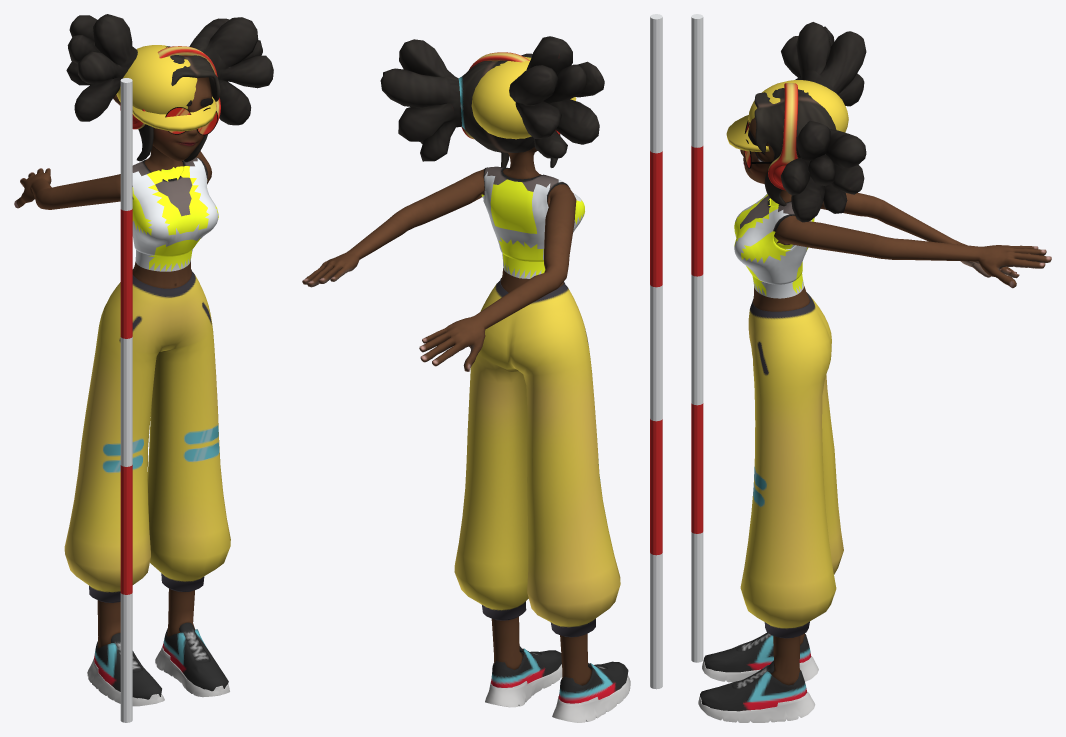
Rendered from trabajador_operario.glb.
The picture shows the model from 3 angles, left to right: view 1: azimuth 30°, elevation 25°; view 2: azimuth 150°, elevation 25°; view 3: azimuth 270°, elevation 25°; orthographic projection. The views are drawn at different scales.
Visible parts, largest first — view 1: Ch03, Sphere, Cylinder.005, Cylinder.001, Cylinder.002, Cylinder.003, Cylinder.004, Cylinder; view 2: Ch03, Sphere, Cylinder.005, Cylinder.004, Cylinder.003, Cylinder.001, Cylinder.002; view 3: Ch03, Cylinder.005, Cylinder.004, Cylinder.003, Cylinder.001, Cylinder.002, Sphere, Cylinder.
Boxes of the visible parts, box(x1,y1,x2,y2) form: Ch03: box(14, 14, 273, 706); Sphere: box(116, 45, 197, 114); Cylinder.005: box(120, 78, 132, 210); Cylinder.001: box(120, 593, 132, 722); Cylinder.002: box(120, 465, 132, 594); Cylinder.003: box(120, 337, 132, 466); Cylinder.004: box(120, 209, 132, 338); Cylinder: box(132, 96, 216, 131); Ch03: box(302, 36, 630, 722); Sphere: box(471, 56, 531, 139); Cylinder.005: box(650, 14, 662, 153); Cylinder.004: box(650, 151, 662, 287); Cylinder.003: box(650, 285, 662, 421); Cylinder.001: box(650, 553, 662, 689); Cylinder.002: box(650, 419, 662, 555); Ch03: box(698, 22, 1051, 722); Cylinder.005: box(691, 14, 703, 147); Cylinder.004: box(691, 146, 703, 276); Cylinder.003: box(691, 274, 703, 405); Cylinder.001: box(691, 532, 703, 662); Cylinder.002: box(691, 403, 703, 533); Sphere: box(748, 80, 848, 132); Cylinder: box(726, 115, 769, 151).
Bounding box in the file's own units: 0.5872 × 1.8 × 0.8888.
Materials: 6 (1 with a texture image).
